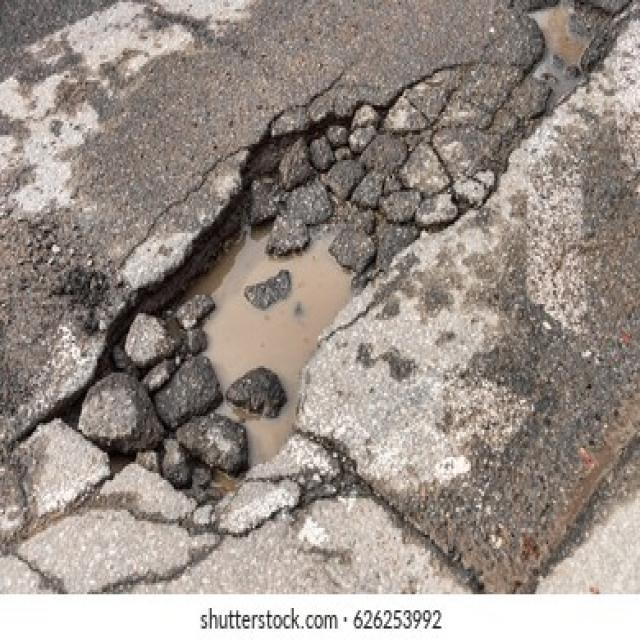Pothole: (64, 105, 378, 505), (520, 0, 620, 103)
